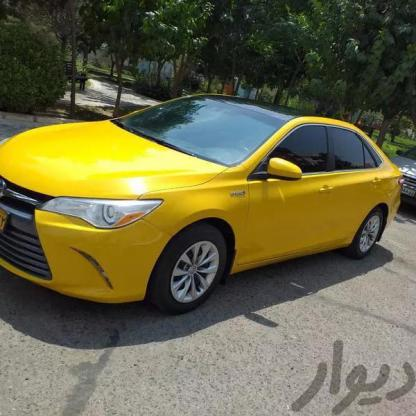Car: (0, 87, 406, 311)
